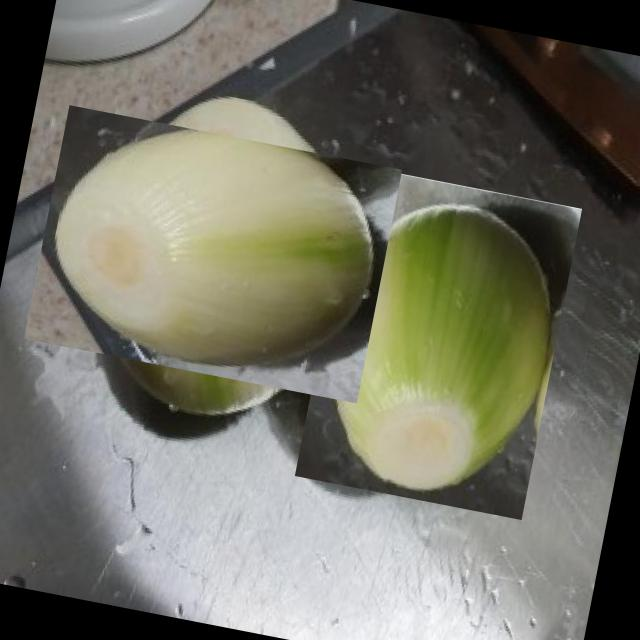Onion: (44, 85, 382, 424), (295, 165, 583, 520)
